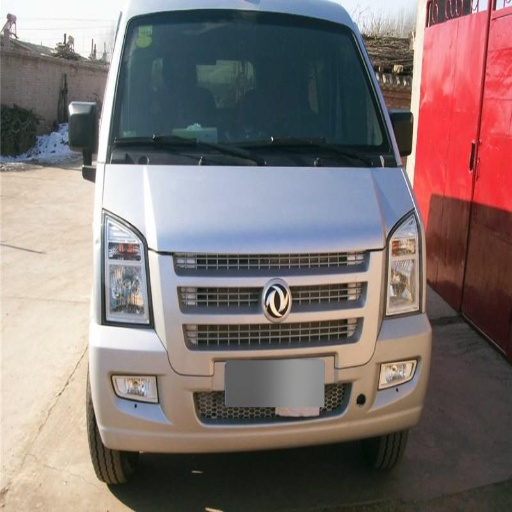front_bumper: (91, 250, 424, 450)
front_right_light: (96, 216, 153, 326)
hood: (104, 165, 413, 319)
